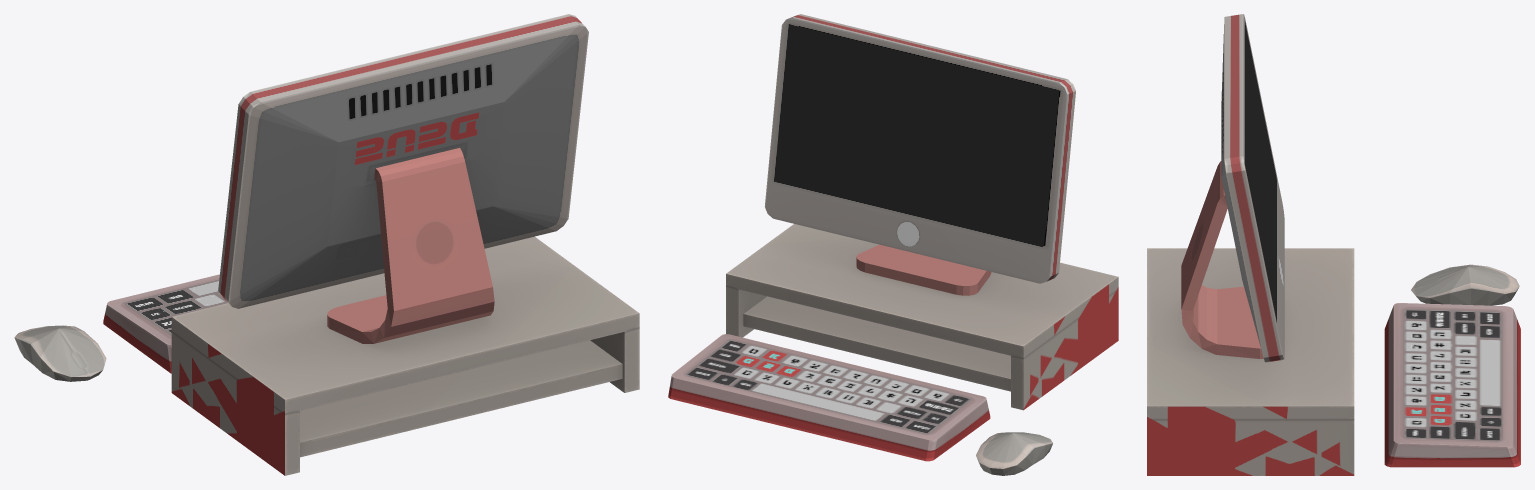
The model's file is P_Computer_002_S1_M03.obj.
The picture shows the model from 3 angles, left to right: view 1: azimuth 30°, elevation 25°; view 2: azimuth 150°, elevation 25°; view 3: azimuth 270°, elevation 25°; orthographic projection. The views are drawn at different scales.
Bounding box in the file's own units: 1.16 × 0.8695 × 0.9447.
Materials: 1 (1 with a texture image).
